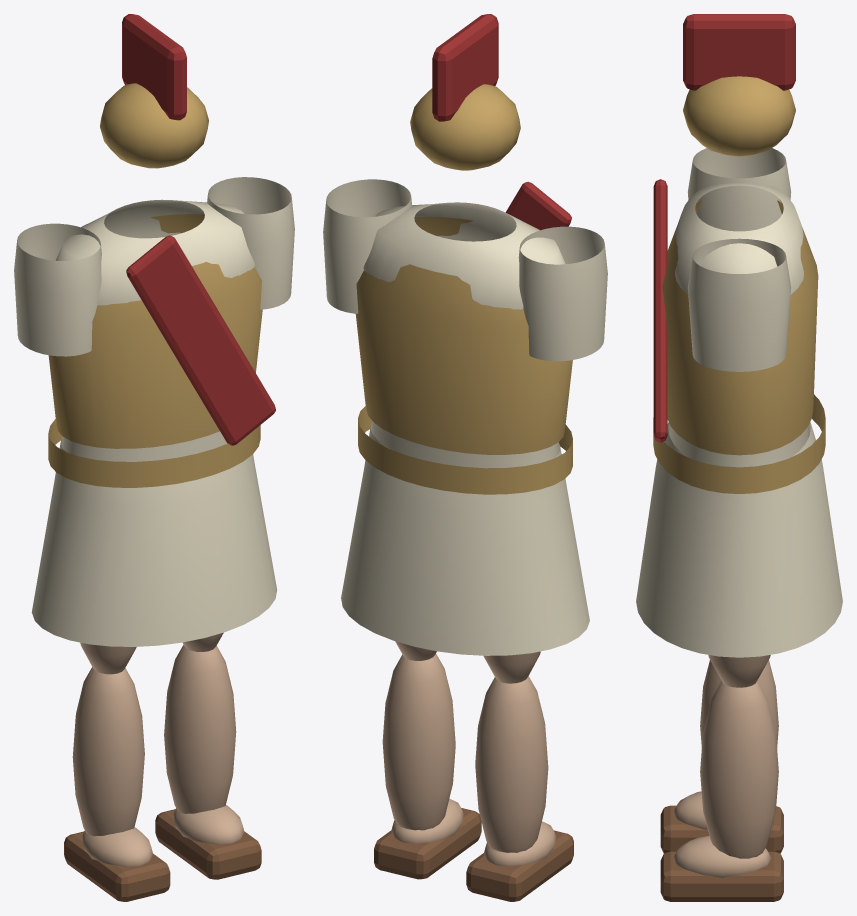
The model's file is RomanGuardOutfit.glb.
3 views of the same model, side by side, from view 1: azimuth 30°, elevation 25°; view 2: azimuth 150°, elevation 25°; view 3: azimuth 270°, elevation 25° (orthographic). The views are drawn at different scales.
Parts seen in each view (by area): view 1: Hips_Draped hem, Chest_Bronze cuirass, Chest_Red toga sash, Chest_Tailored garment, LeftLowerLeg_Calf, RightLowerLeg_Calf, RightUpperArm_Linen sleeve, LeftUpperArm_Linen sleeve, Head_Helmet, Hips_Woven belt, Head_Red helmet crest, RightFoot_Sandal (+4 smaller); view 2: Hips_Draped hem, Chest_Bronze cuirass, Chest_Tailored garment, LeftLowerLeg_Calf, RightLowerLeg_Calf, RightUpperArm_Linen sleeve, LeftUpperArm_Linen sleeve, Head_Helmet, Hips_Woven belt, Head_Red helmet crest, RightFoot_Sandal, LeftFoot_Sandal (+4 smaller); view 3: Hips_Draped hem, Chest_Bronze cuirass, LeftLowerLeg_Calf, LeftUpperArm_Linen sleeve, Chest_Tailored garment, Head_Red helmet crest, Head_Helmet, RightUpperArm_Linen sleeve, Hips_Woven belt, LeftFoot_Sandal, Chest_Red toga sash, LeftFoot_Foot (+4 smaller).
Part boxes in pixels (bbox=[...]): Hips_Draped hem: bbox=[31, 436, 277, 646]; Chest_Bronze cuirass: bbox=[48, 214, 262, 448]; Chest_Red toga sash: bbox=[126, 235, 275, 445]; Chest_Tailored garment: bbox=[56, 199, 254, 461]; LeftLowerLeg_Calf: bbox=[164, 645, 236, 813]; RightLowerLeg_Calf: bbox=[72, 667, 144, 836]; RightUpperArm_Linen sleeve: bbox=[14, 223, 101, 356]; LeftUpperArm_Linen sleeve: bbox=[207, 177, 294, 309]; Head_Helmet: bbox=[100, 83, 208, 168]; Hips_Woven belt: bbox=[48, 419, 260, 487]; Head_Red helmet crest: bbox=[122, 14, 186, 120]; RightFoot_Sandal: bbox=[64, 831, 170, 901]; Hips_Draped hem: bbox=[341, 421, 589, 655]; Chest_Bronze cuirass: bbox=[355, 216, 572, 454]; Chest_Tailored garment: bbox=[363, 202, 565, 468]; LeftLowerLeg_Calf: bbox=[382, 654, 455, 830]; RightLowerLeg_Calf: bbox=[475, 676, 548, 852]; RightUpperArm_Linen sleeve: bbox=[518, 226, 607, 361]; LeftUpperArm_Linen sleeve: bbox=[323, 179, 412, 313]; Head_Helmet: bbox=[410, 84, 520, 170]; Hips_Woven belt: bbox=[358, 406, 572, 494]; Head_Red helmet crest: bbox=[432, 14, 498, 121]; RightFoot_Sandal: bbox=[466, 830, 573, 901]; LeftFoot_Sandal: bbox=[374, 808, 481, 879]; Hips_Draped hem: bbox=[636, 422, 842, 657]; Chest_Bronze cuirass: bbox=[662, 200, 818, 455]; LeftLowerLeg_Calf: bbox=[700, 681, 778, 858]; LeftUpperArm_Linen sleeve: bbox=[687, 238, 791, 371]; Chest_Tailored garment: bbox=[670, 183, 808, 467]; Head_Red helmet crest: bbox=[683, 14, 795, 90]; Head_Helmet: bbox=[683, 76, 795, 156]; RightUpperArm_Linen sleeve: bbox=[687, 148, 791, 231]; Hips_Woven belt: bbox=[653, 394, 825, 493]; LeftFoot_Sandal: bbox=[660, 851, 783, 901]; Chest_Red toga sash: bbox=[653, 179, 667, 442]; LeftFoot_Foot: bbox=[673, 836, 771, 877].
Size of the model in its own units: 0.64 by 1.92 by 0.42.
